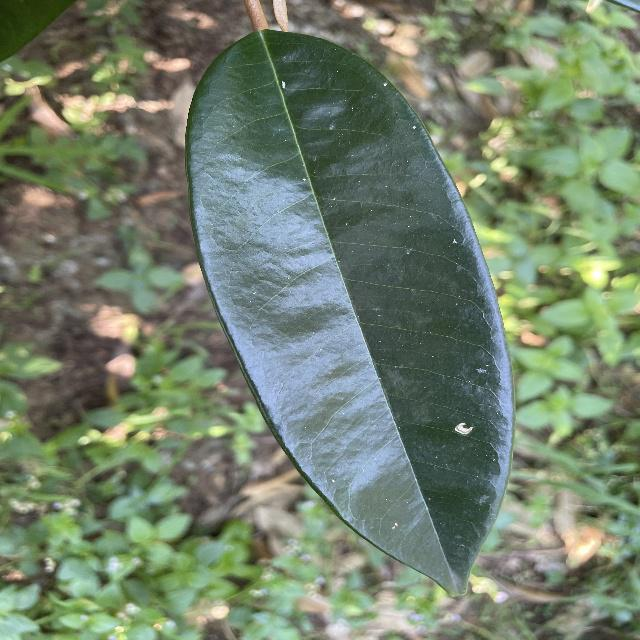No Disease: (181, 23, 519, 611)
